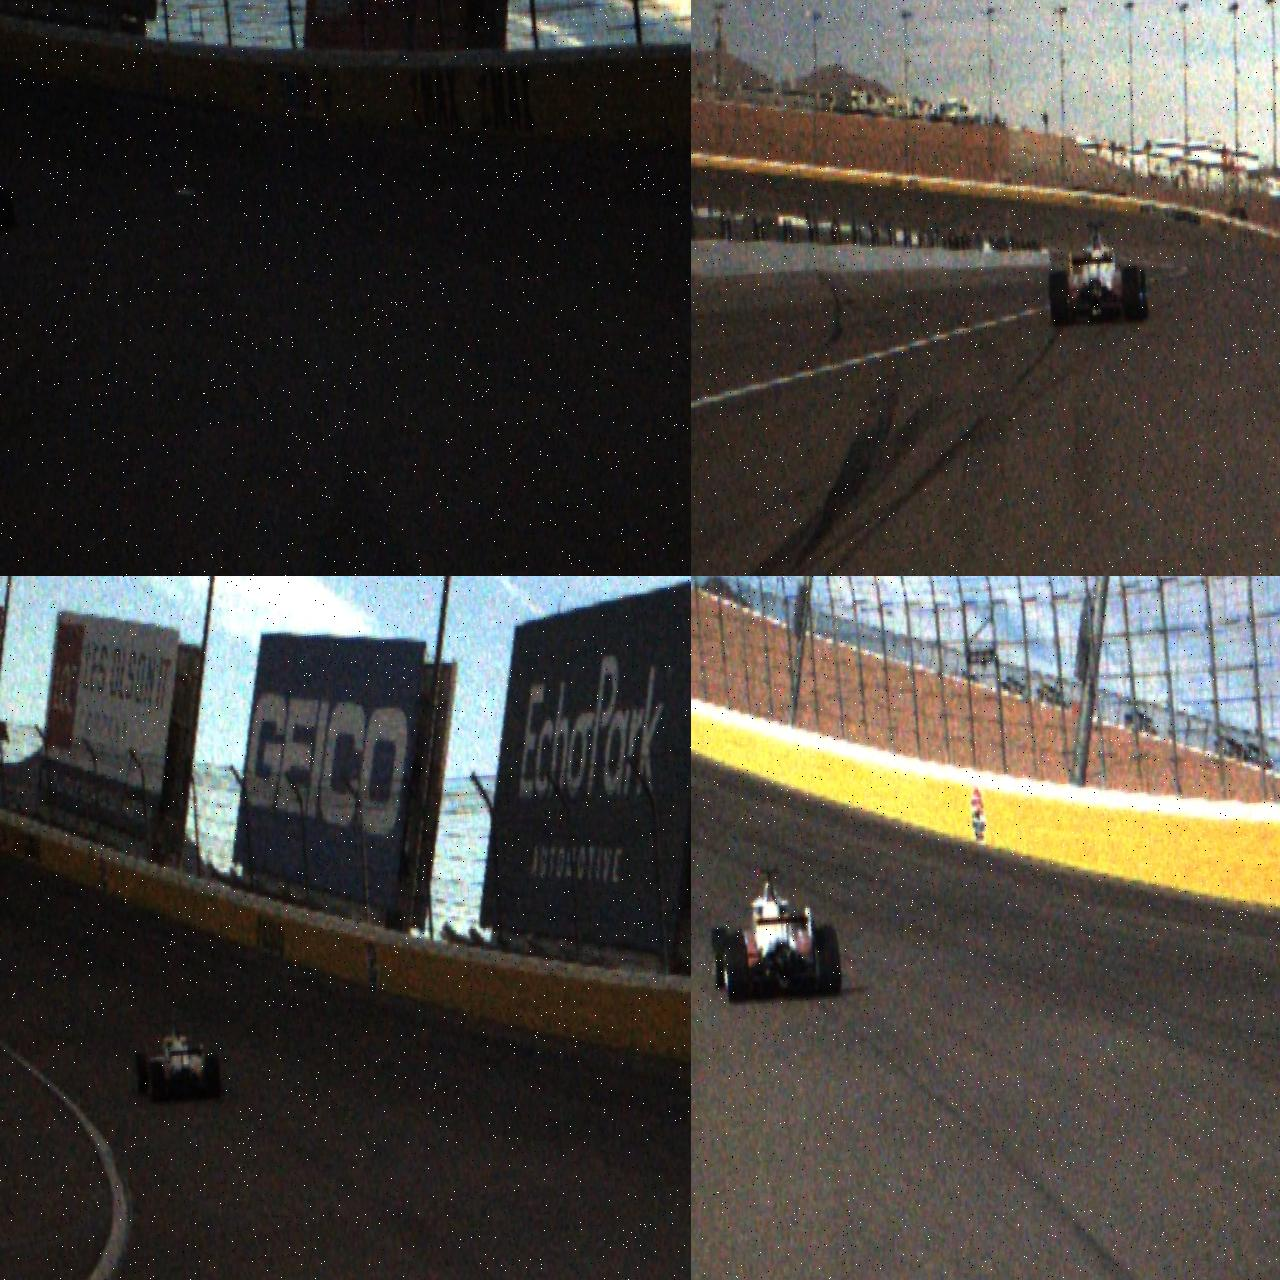AV: (704, 860, 844, 1007), (1044, 218, 1150, 328), (132, 1019, 222, 1105)
Wheel: (722, 933, 750, 1006), (817, 924, 844, 998), (710, 927, 731, 990), (1122, 266, 1144, 322), (1049, 272, 1071, 327), (148, 1060, 166, 1103), (204, 1055, 222, 1101), (134, 1053, 150, 1097)
